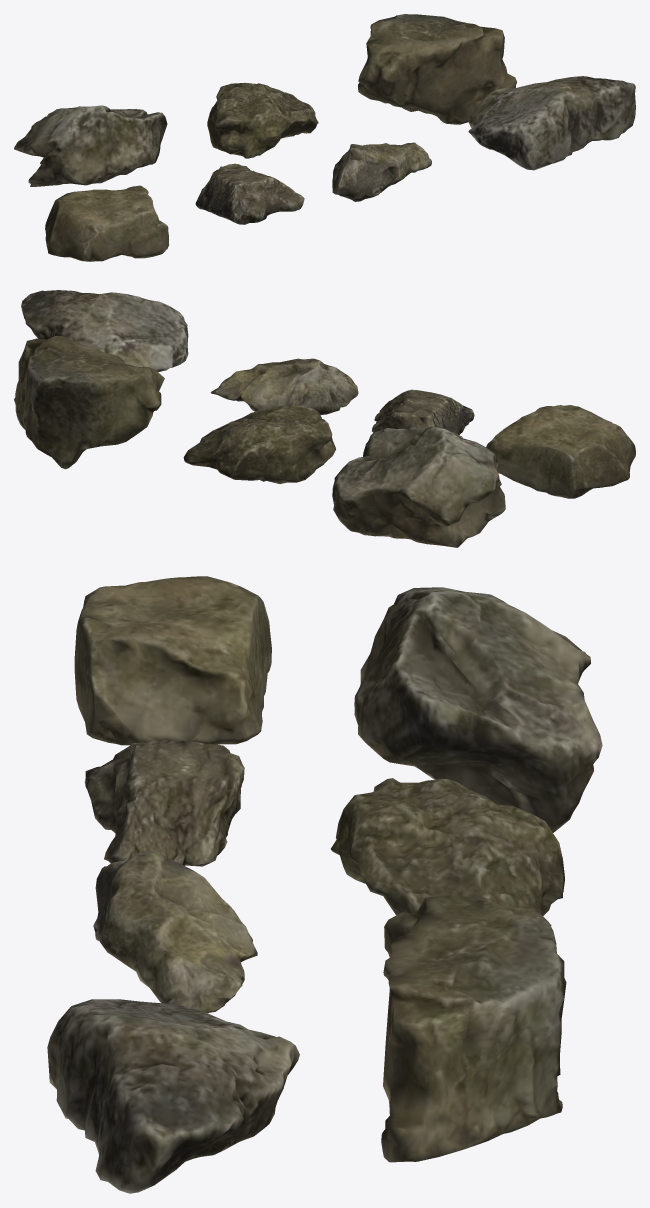
File: rock_moss_set_02.glb
3 renders of one model, top to bottom at view 1: azimuth 30°, elevation 25°; view 2: azimuth 150°, elevation 25°; view 3: azimuth 270°, elevation 25°, orthographic. The views are drawn at different scales.
Visible parts, largest first — view 1: rock_moss_set_02_rock13, rock_moss_set_02_rock10, rock_moss_set_02_rock11, rock_moss_set_02_rock07, rock_moss_set_02_rock12, rock_moss_set_02_rock08, rock_moss_set_02_rock09; view 2: rock_moss_set_02_rock11, rock_moss_set_02_rock13, rock_moss_set_02_rock07, rock_moss_set_02_rock10, rock_moss_set_02_rock12, rock_moss_set_02_rock09, rock_moss_set_02_rock08; view 3: rock_moss_set_02_rock13, rock_moss_set_02_rock11, rock_moss_set_02_rock10, rock_moss_set_02_rock07, rock_moss_set_02_rock12, rock_moss_set_02_rock09, rock_moss_set_02_rock08.
Part boxes in pixels (<box>): rock_moss_set_02_rock13: <box>358,14,516,124</box>; rock_moss_set_02_rock10: <box>468,76,635,170</box>; rock_moss_set_02_rock11: <box>14,105,167,186</box>; rock_moss_set_02_rock07: <box>45,185,169,261</box>; rock_moss_set_02_rock12: <box>207,82,318,158</box>; rock_moss_set_02_rock08: <box>195,163,304,224</box>; rock_moss_set_02_rock09: <box>332,142,431,201</box>; rock_moss_set_02_rock11: <box>332,426,505,547</box>; rock_moss_set_02_rock13: <box>14,336,164,469</box>; rock_moss_set_02_rock07: <box>486,405,635,498</box>; rock_moss_set_02_rock10: <box>21,290,188,372</box>; rock_moss_set_02_rock12: <box>183,405,335,483</box>; rock_moss_set_02_rock09: <box>210,358,358,415</box>; rock_moss_set_02_rock08: <box>372,389,474,434</box>; rock_moss_set_02_rock13: <box>381,894,566,1162</box>; rock_moss_set_02_rock11: <box>354,587,602,832</box>; rock_moss_set_02_rock10: <box>47,999,299,1193</box>; rock_moss_set_02_rock07: <box>74,576,271,745</box>; rock_moss_set_02_rock12: <box>331,778,564,925</box>; rock_moss_set_02_rock09: <box>93,850,257,1012</box>; rock_moss_set_02_rock08: <box>84,740,244,866</box>.
Bounding box in the file's own units: 8.28 × 1.37 × 3.41.
1 material, 1 textured.
